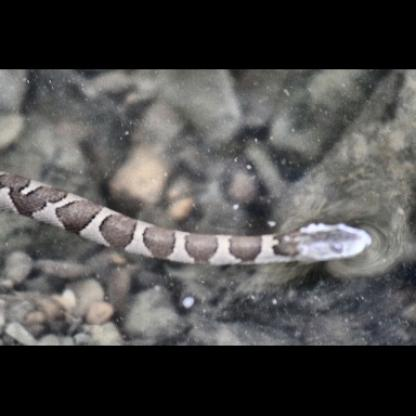Snake: (5, 155, 413, 310)
